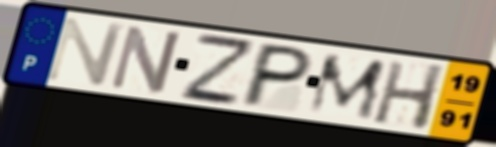H: (370, 59, 449, 133)
M: (304, 53, 390, 122)
N: (42, 15, 129, 87), (105, 22, 185, 96)
P: (235, 41, 317, 110)
Z: (177, 30, 255, 108)
